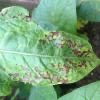Potato leaf early blight: (0, 6, 99, 87)
